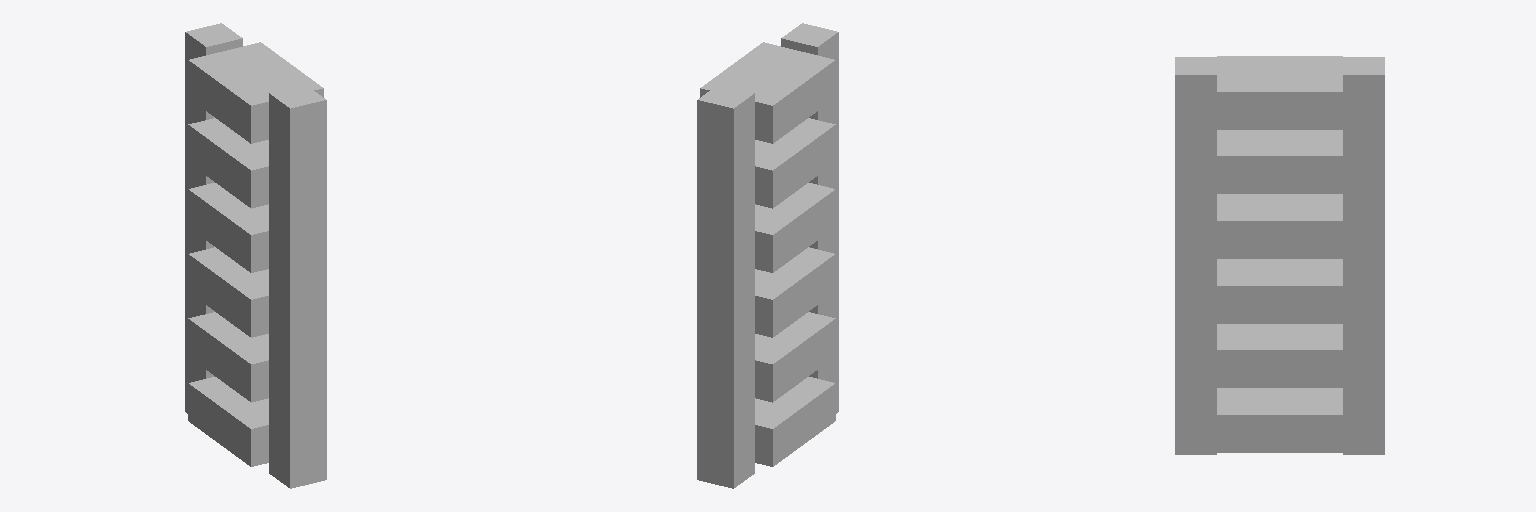
File: height1.obj
3 views of the same model, side by side, from view 1: azimuth 30°, elevation 25°; view 2: azimuth 150°, elevation 25°; view 3: azimuth 270°, elevation 25° (orthographic).
Visible parts, largest first — view 1: Cube.002; view 2: Cube.002; view 3: Cube.002.
Boxes of the visible parts, x1,y1,x2,y2 form: Cube.002: [185, 23, 326, 488]; Cube.002: [697, 23, 838, 488]; Cube.002: [1175, 56, 1384, 454].
Bounding box in the file's own units: 0.8 × 4 × 2.